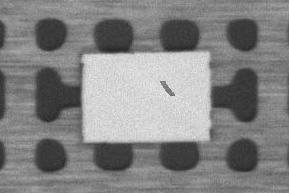DIE_INK: (158, 78, 174, 97)
